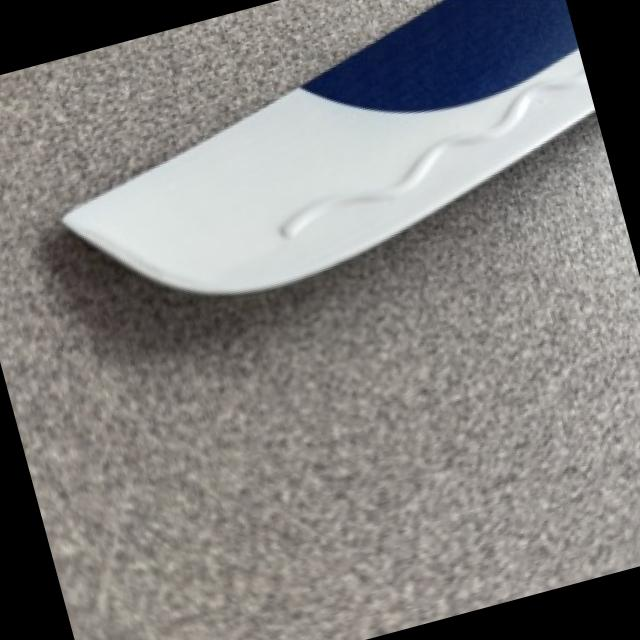healthy: (60, 0, 592, 292)
